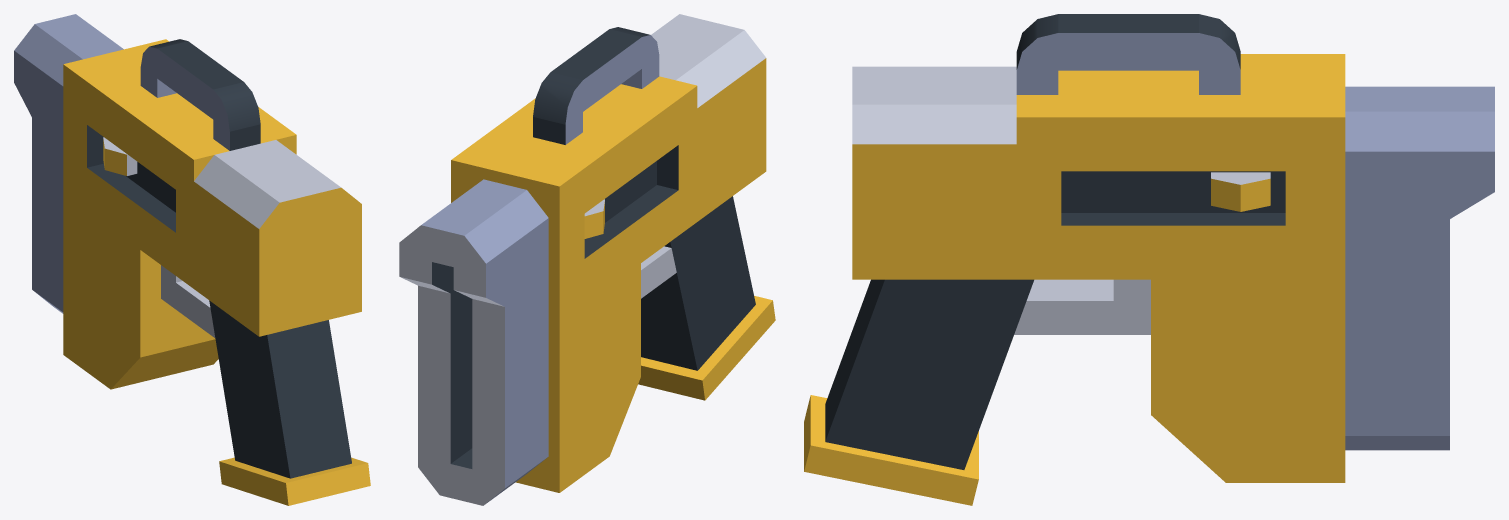
The model's file is blasterK.obj.
The picture shows the model from 3 angles, left to right: view 1: azimuth 30°, elevation 25°; view 2: azimuth 150°, elevation 25°; view 3: azimuth 270°, elevation 25°; orthographic projection. The views are drawn at different scales.
Parts seen in each view (by area): view 1: blasterK; view 2: blasterK; view 3: blasterK.
Part boxes in pixels (left/top/right/bottom): blasterK: left=14, top=14, right=370, bottom=505; blasterK: left=399, top=14, right=775, bottom=505; blasterK: left=804, top=14, right=1494, bottom=505.
Size of the model in its own units: 0.1 by 0.3376 by 0.4622.
